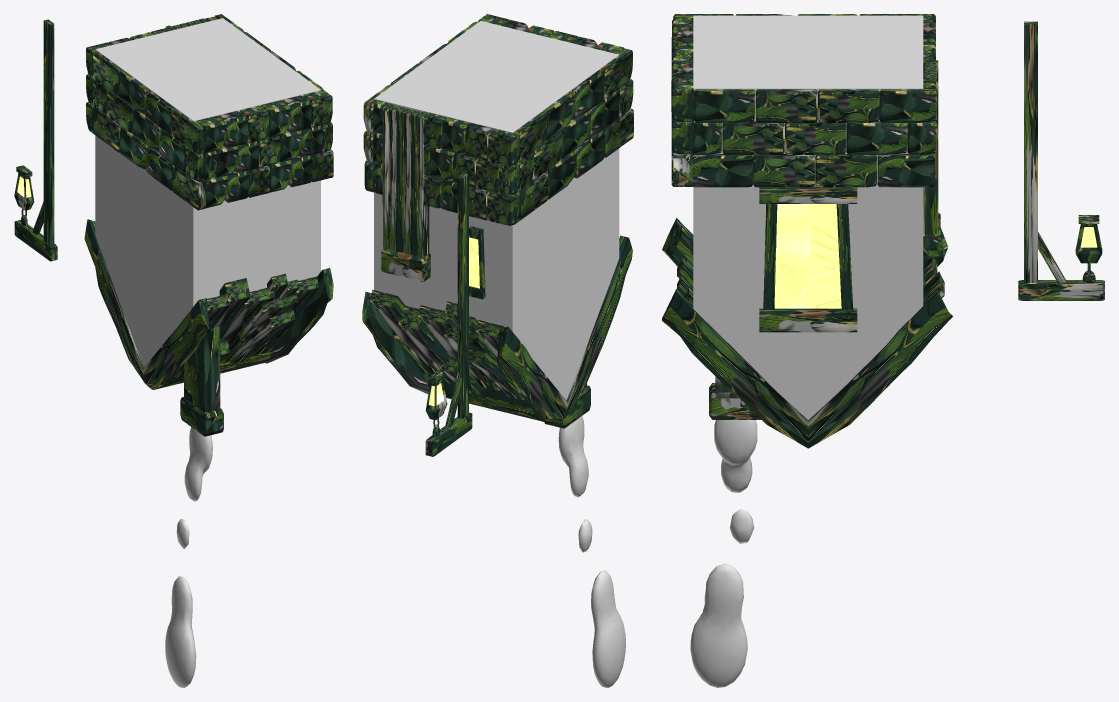
File: house.glb
3 views of the same model, side by side, from view 1: azimuth 30°, elevation 25°; view 2: azimuth 150°, elevation 25°; view 3: azimuth 270°, elevation 25° (orthographic). The views are drawn at different scales.
Parts seen in each view (by area): view 1: ARModel; view 2: ARModel; view 3: ARModel.
Part boxes in pixels (left/top/right/bottom): ARModel: left=14, top=14, right=333, bottom=687; ARModel: left=362, top=14, right=633, bottom=687; ARModel: left=662, top=14, right=1104, bottom=687.
Size of the model in its own units: 0.8455 by 3.14 by 1.87.
Materials: 7 (6 with a texture image).
